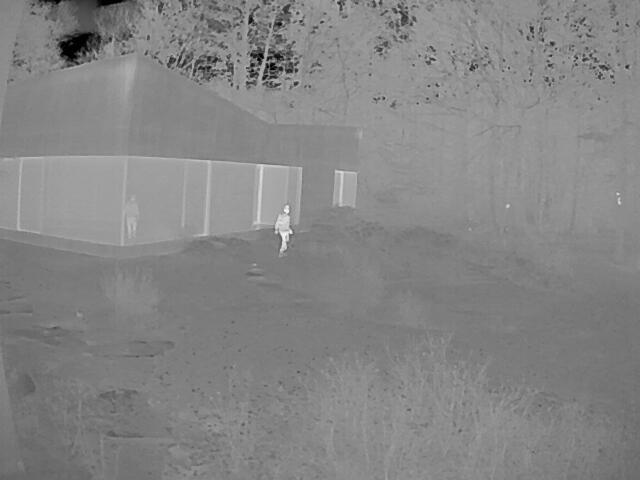person: (273, 201, 292, 253), (122, 193, 140, 239)
